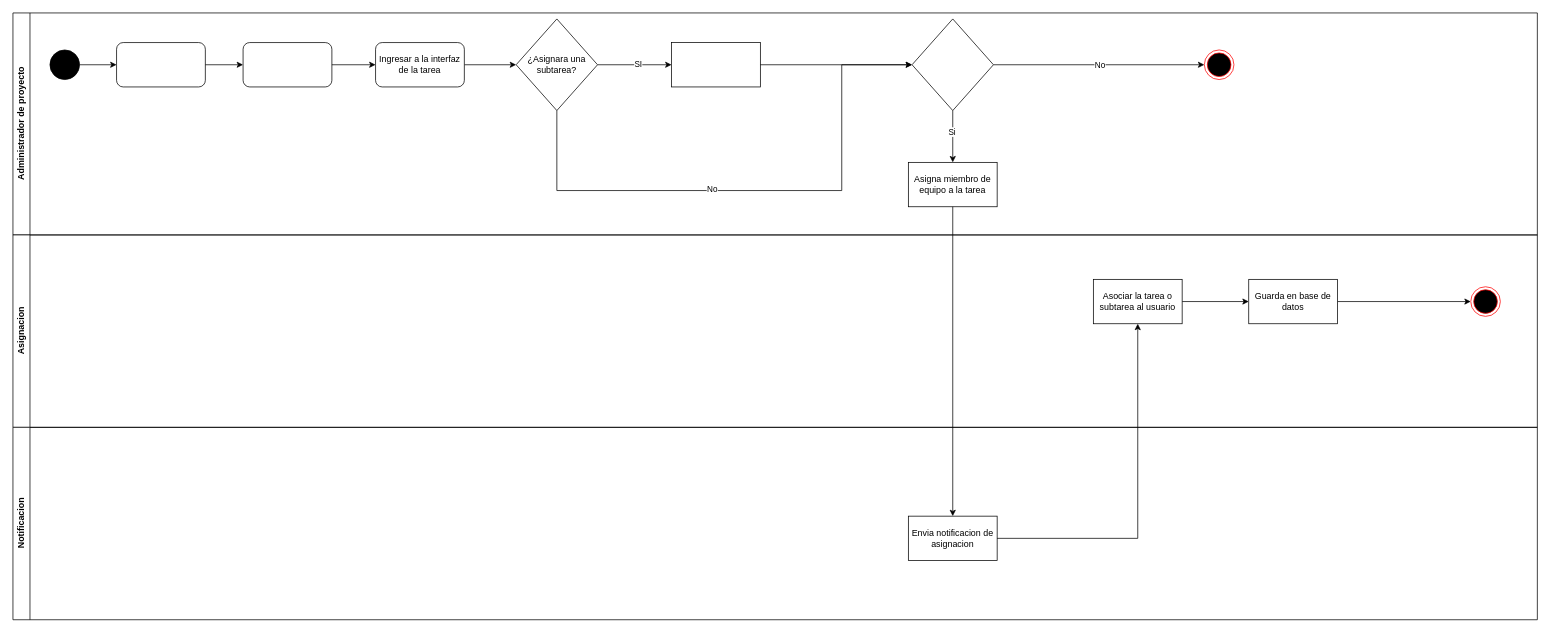
Some shapes in this 1550 by 633 pixel diagram are drawn without their labels. The shapes that lost their labels are listed below. From the top down, each one's centre as x and y in pixels, then its label:
point (160, 64): Iniciar sesión en el sistema SSAP
point (287, 64): Ingresar a la interfaz del proyecto
point (715, 64): Ingresar a la interfaz de la subtarea
point (952, 64): ¿Hay miembros del equipo disponibles?
